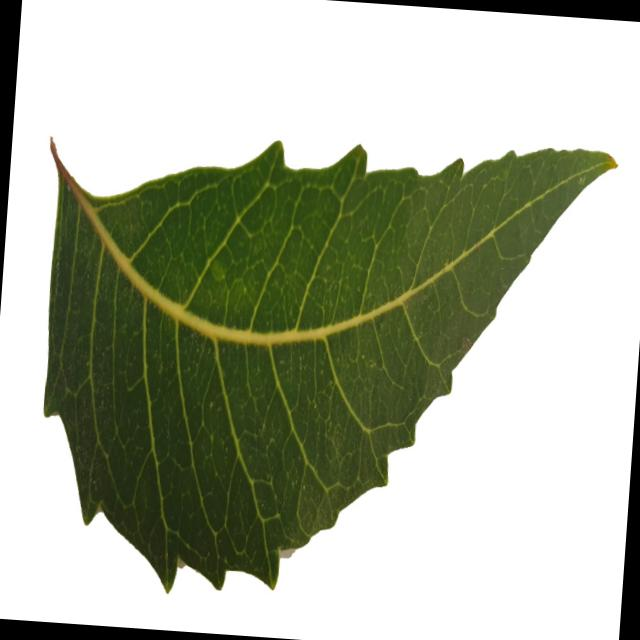Medicinal-Neem: (19, 104, 620, 620)
